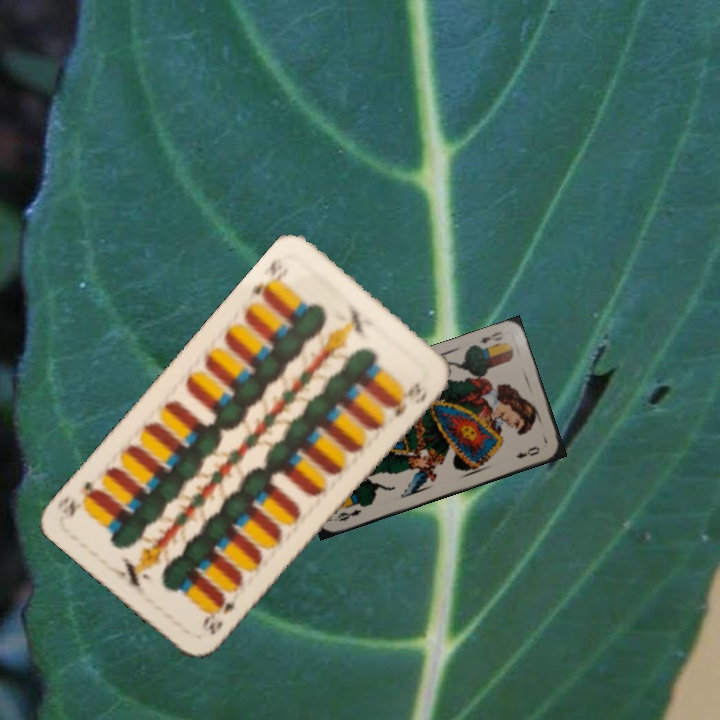E10: (248, 250, 289, 305), (198, 591, 241, 638)
EO: (329, 505, 364, 524), (475, 327, 505, 346)
